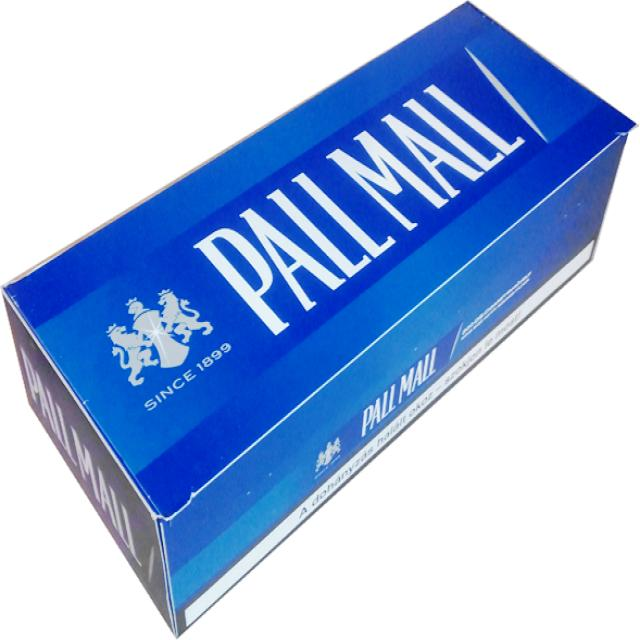pallmall: (6, 0, 640, 640)
